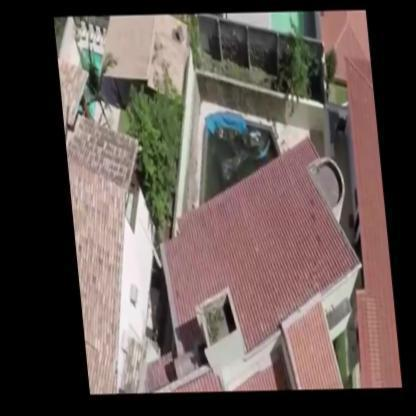agua: (205, 127, 261, 170)
